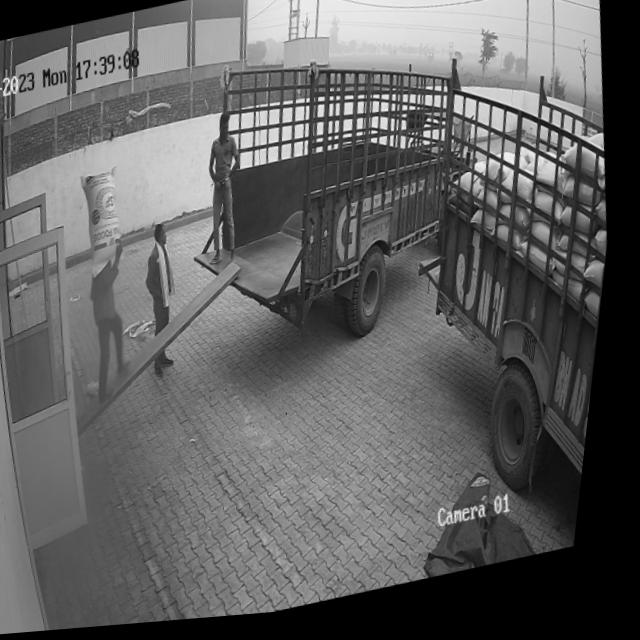sack: (77, 170, 138, 282)
